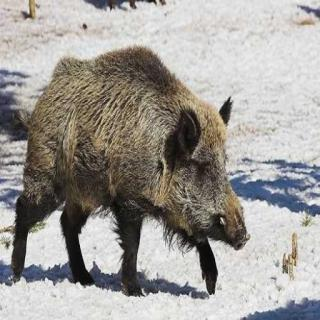Pig: (0, 53, 271, 294)
